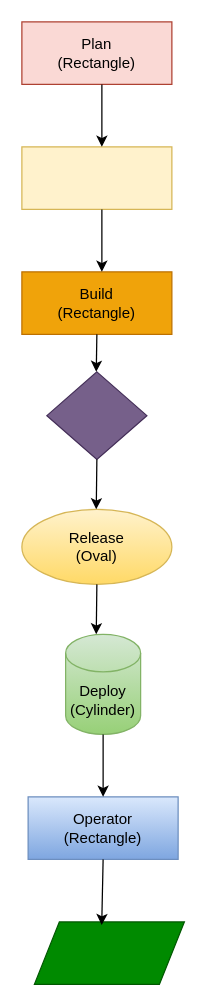
This 206x1006 diagram has some shape labels left out. The box of each missing label's shape, as (x1, y1, x2, y2) in pixels:
Develop (Rectangle): (21, 146, 172, 209)
Monitor (Paralellogram): (33, 921, 184, 984)
Test (Diamond): (46, 371, 147, 459)
